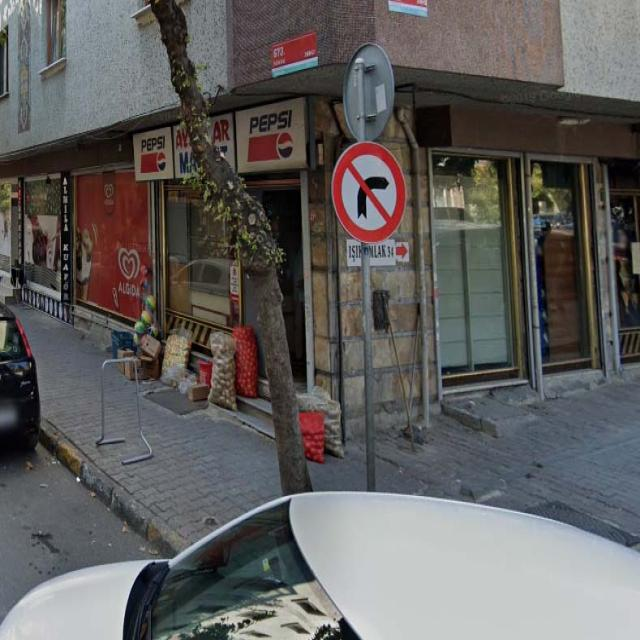sagadonulmez: (331, 143, 406, 242)
